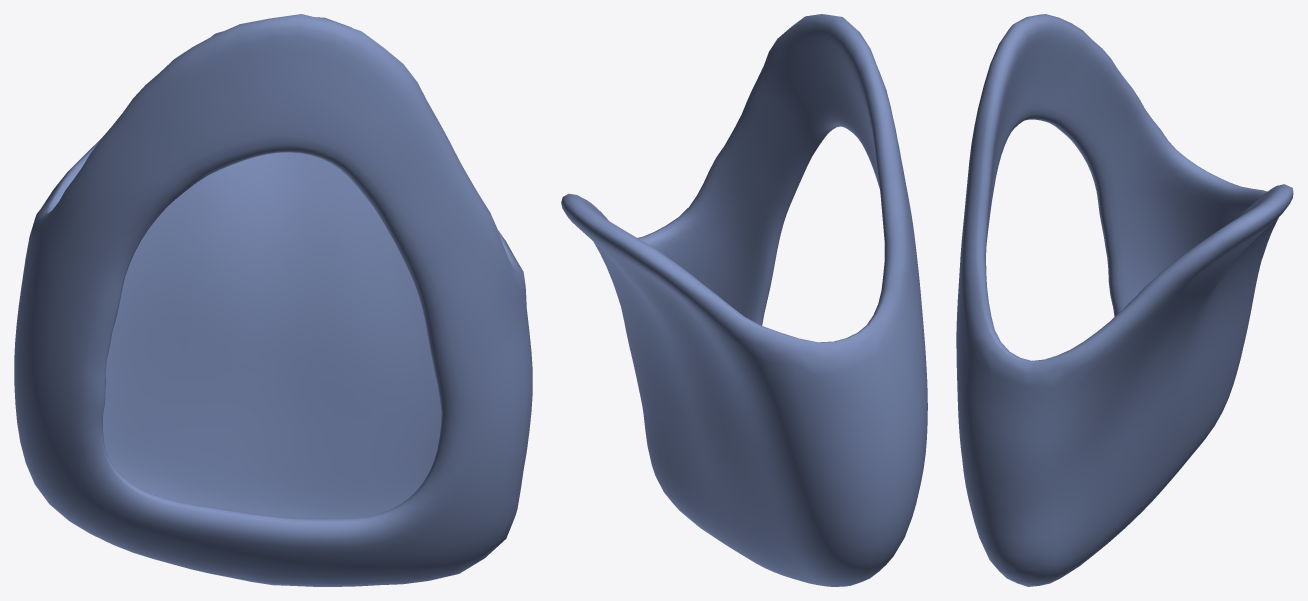
File: TL2_Frame_Classic.001 3.glb
3 views of the same model, side by side, from view 1: azimuth 30°, elevation 25°; view 2: azimuth 150°, elevation 25°; view 3: azimuth 270°, elevation 25° (orthographic). The views are drawn at different scales.
Visible parts, largest first — view 1: TL2_Frame_Classic.001; view 2: TL2_Frame_Classic.001; view 3: TL2_Frame_Classic.001.
Part boxes in pixels (box(x1,y1,x2,y2)): TL2_Frame_Classic.001: box(14, 14, 532, 586); TL2_Frame_Classic.001: box(561, 14, 927, 586); TL2_Frame_Classic.001: box(956, 14, 1293, 586).
Bounding box in the file's own units: 0.7108 × 1 × 0.606.
